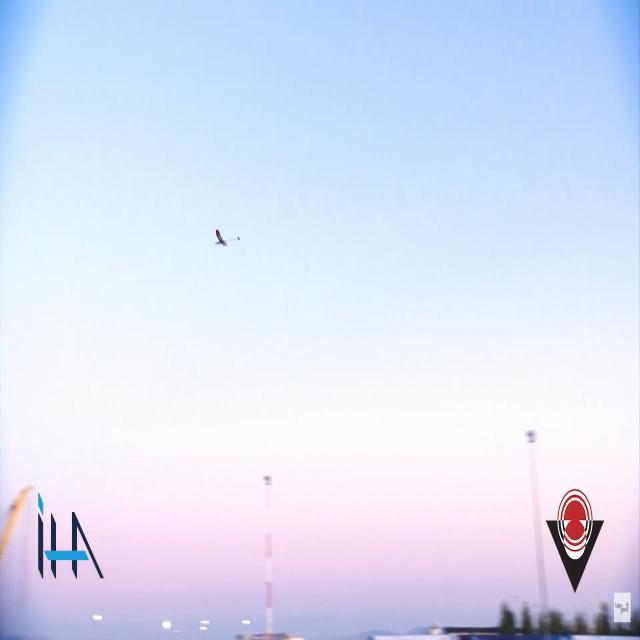iha: (214, 226, 241, 249)
